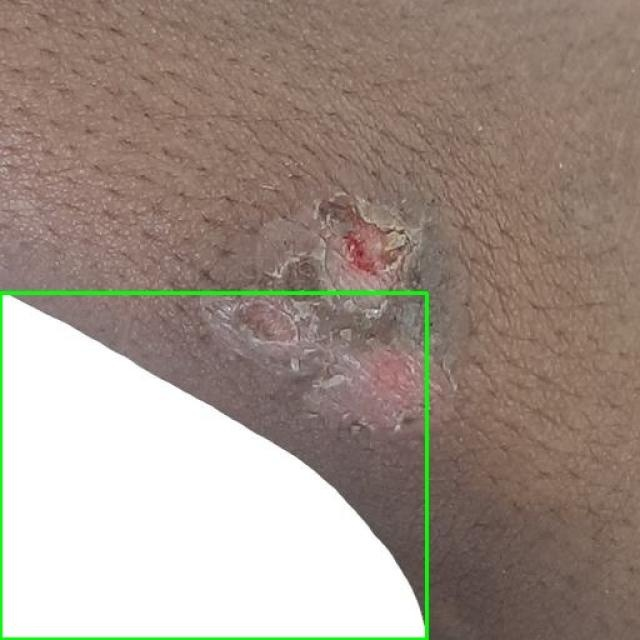Contact Dermatitis: (0, 292, 426, 639)
